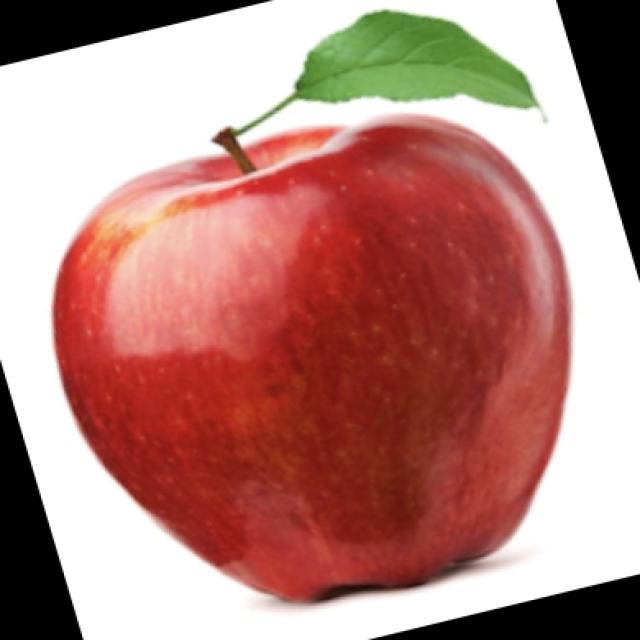organik: (55, 101, 603, 627)
